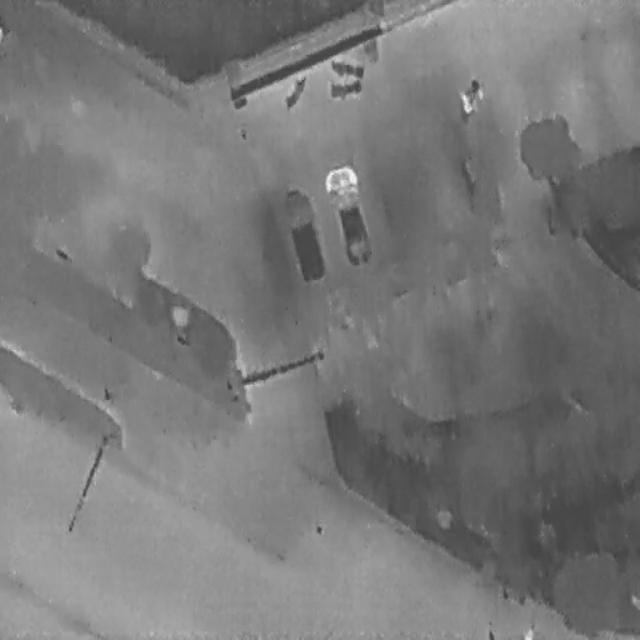Bicycle: (278, 68, 311, 114), (455, 75, 483, 120), (327, 52, 366, 84), (326, 72, 364, 101)
Car: (319, 156, 379, 272), (275, 178, 330, 288)
Person: (458, 86, 473, 118), (522, 624, 534, 636)
